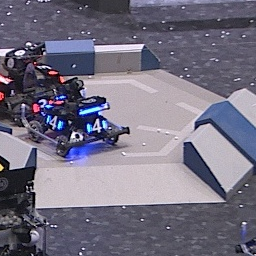Blue: (86, 118, 108, 134), (45, 115, 64, 131)
Red: (33, 61, 58, 76), (32, 97, 54, 113)
Robot: (24, 86, 130, 154), (1, 150, 57, 254), (1, 39, 71, 120)
